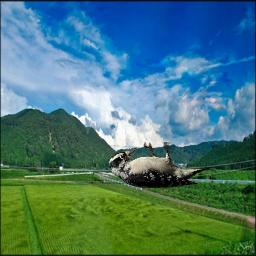Woodpecker: (109, 142, 213, 188)
